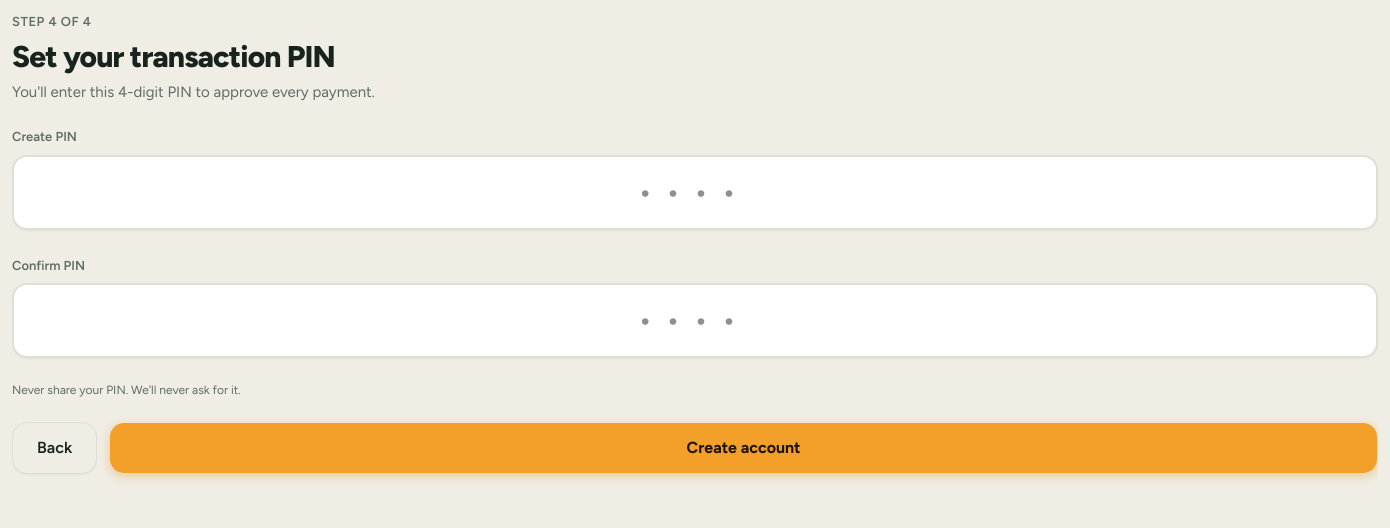
Test: PinStep › surfaces the backend's weak-PIN rejection inline
The width and height of the screenshot is (1390, 528).
Type "2468" into the password field labelled "Create PIN" at coordinates (695, 192), box [12,155,1378,230]
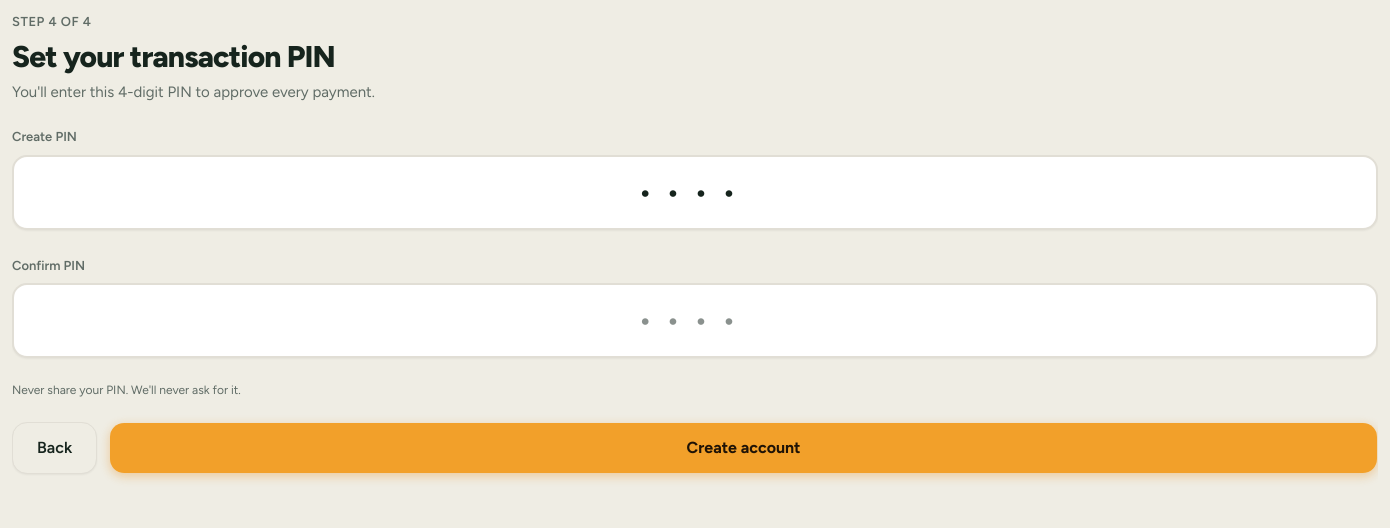
Type "2468" into the password field labelled "Confirm PIN" at coordinates (695, 321), box [12,283,1378,358]
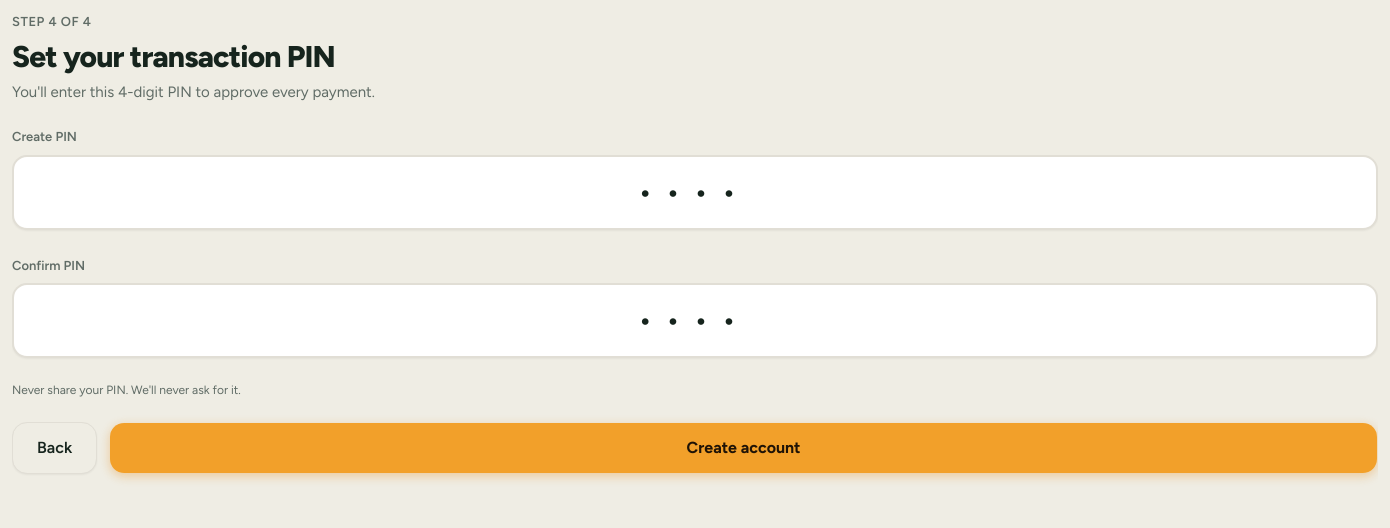
Click the button "Create account" at coordinates (744, 448), box [109,422,1378,474]
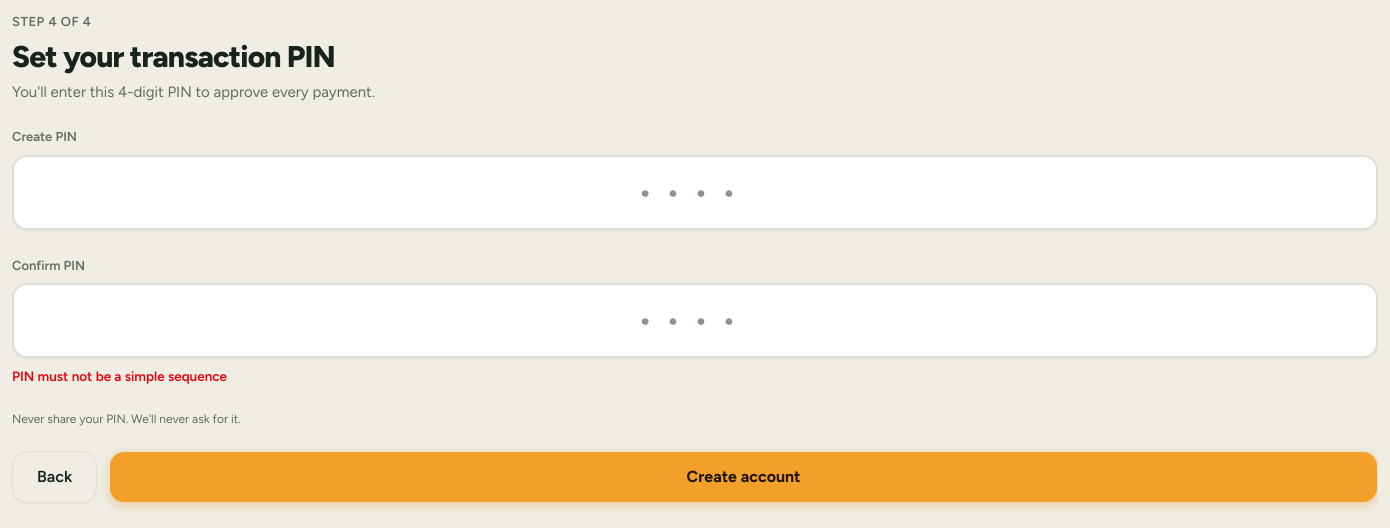
Expected: the text "PIN must not be a simple sequence" is shown, [12,368,227,384]
